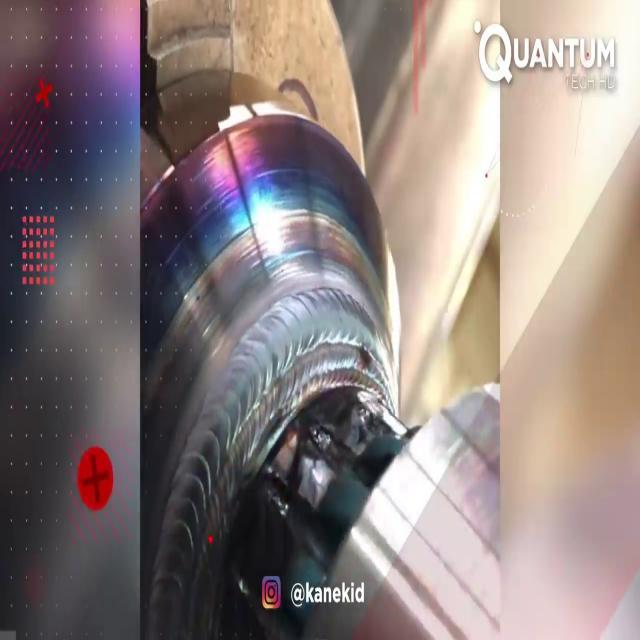Good Welding: (194, 316, 306, 530), (307, 288, 407, 404)
